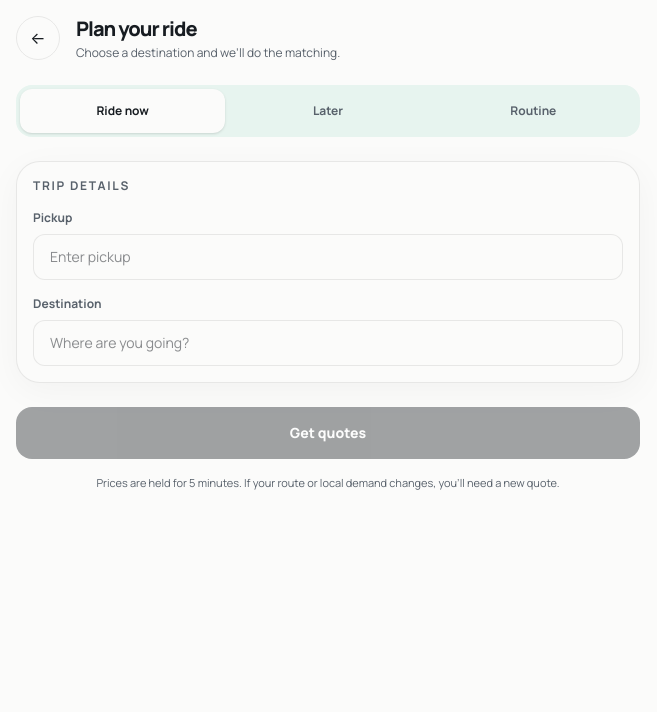
NewRide (signed in: live quotes) › geocodes, routes and shows the route distance and duration
Type "Central" into the dropdown with placeholder "Enter pickup" at (328, 257), box [33,234,623,280]
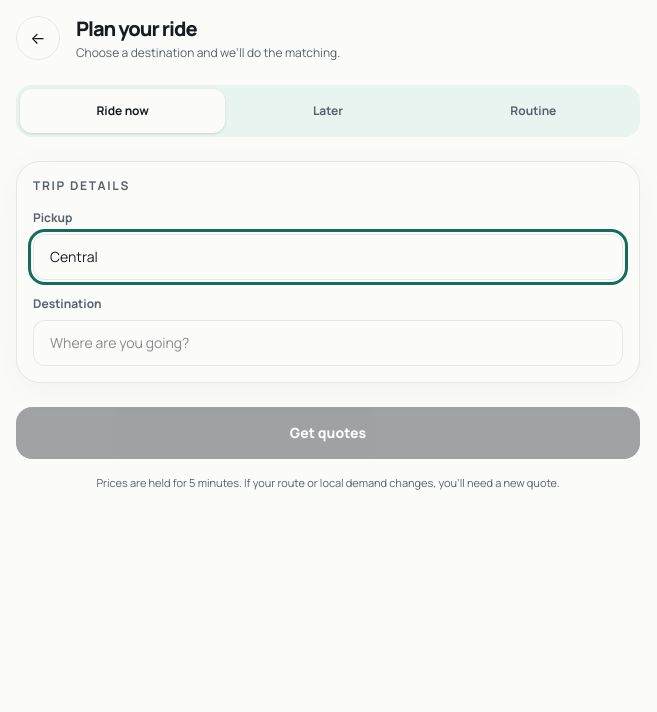
Type "North Sydney" into the dropdown with placeholder "Where are you going?" at (328, 343), box [33,320,623,366]
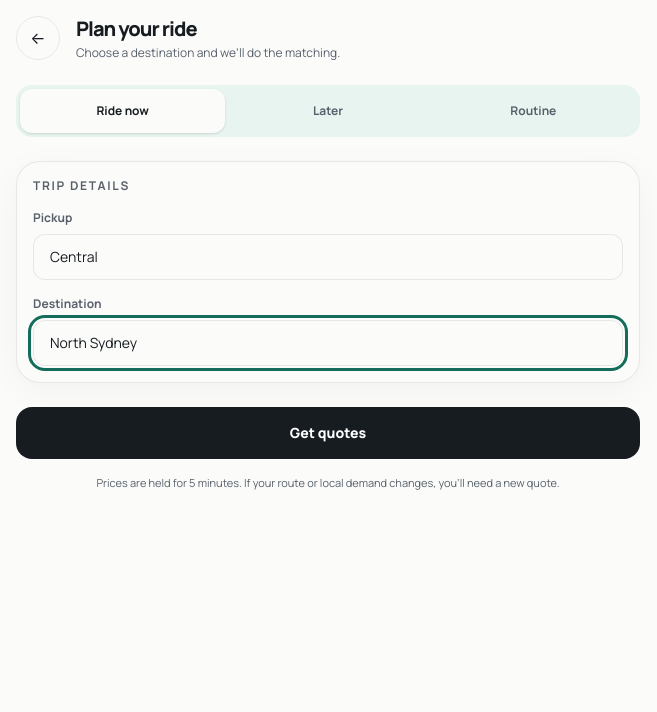
Click the button "Get quotes" at (328, 433), box [16,407,640,459]
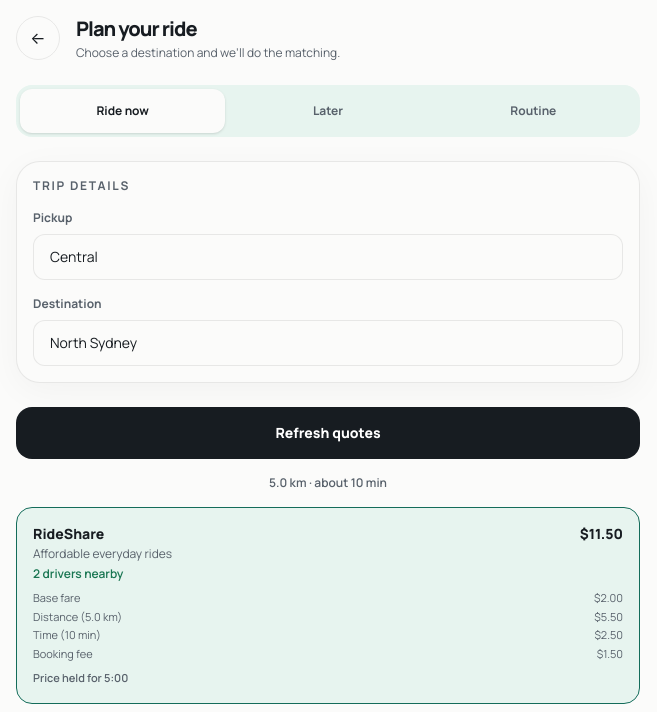
Expected: the text with test id "route-summary" reads "5.0 km · about 10 min", [269,474,387,491]
